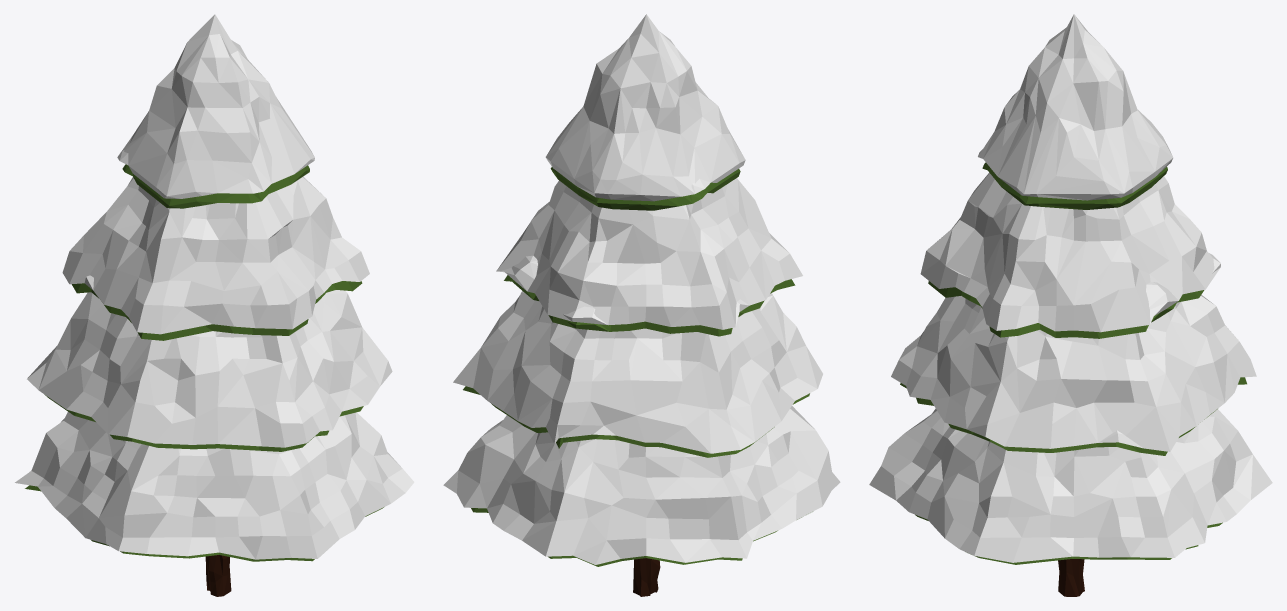
Rendered from Arbol Nevado 3.fbx.
3 views of the same model, side by side, from view 1: azimuth 30°, elevation 25°; view 2: azimuth 150°, elevation 25°; view 3: azimuth 270°, elevation 25° (orthographic).
Visible parts, largest first — view 1: Arbol nevado 3_LOD0; view 2: Arbol nevado 3_LOD0; view 3: Arbol nevado 3_LOD0.
Boxes of the visible parts, x1=… form: Arbol nevado 3_LOD0: x1=15, y1=14, x2=414, y2=596; Arbol nevado 3_LOD0: x1=443, y1=14, x2=840, y2=596; Arbol nevado 3_LOD0: x1=869, y1=14, x2=1272, y2=596.
Size of what is drawn, in the model's own units: 180 by 321 by 204.
